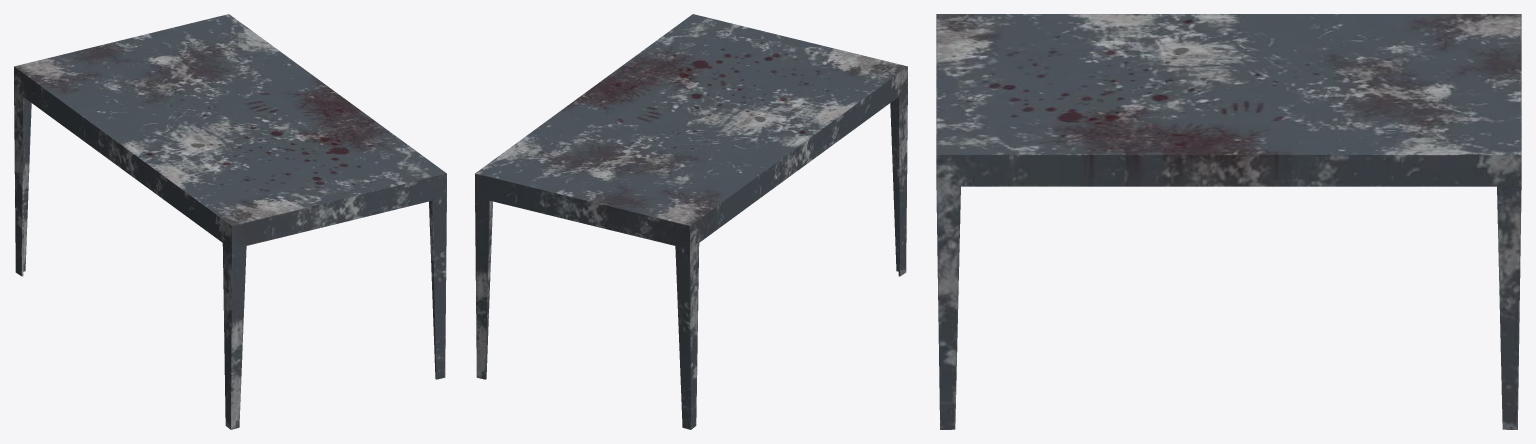
The model's file is metal_table.glb.
The picture shows the model from 3 angles, left to right: view 1: azimuth 30°, elevation 25°; view 2: azimuth 150°, elevation 25°; view 3: azimuth 270°, elevation 25°; orthographic projection. The views are drawn at different scales.
Parts seen in each view (by area): view 1: Object_2; view 2: Object_2; view 3: Object_2.
Part boxes in pixels (left/top/right/bottom): Object_2: left=14, top=14, right=446, bottom=429; Object_2: left=475, top=14, right=907, bottom=429; Object_2: left=936, top=14, right=1521, bottom=429.
Bounding box in the file's own units: 0.9875 × 0.9 × 1.73.
Materials: 1 (1 with a texture image).
